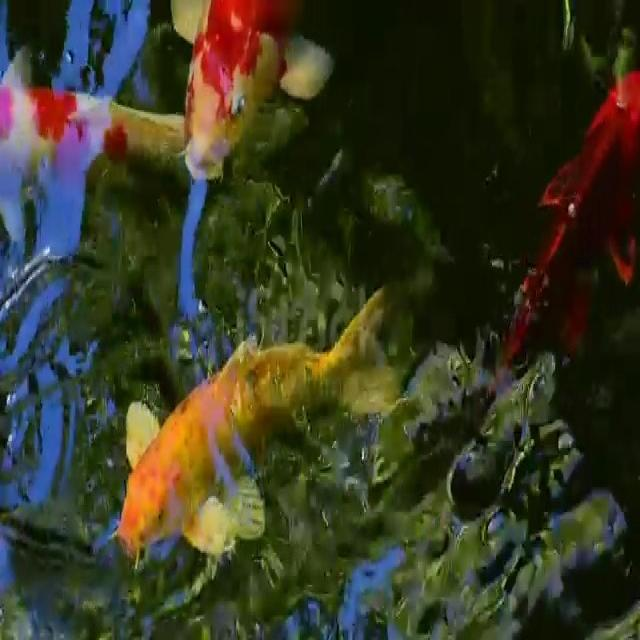fish: (91, 282, 427, 576), (169, 0, 333, 199), (536, 63, 640, 307)
